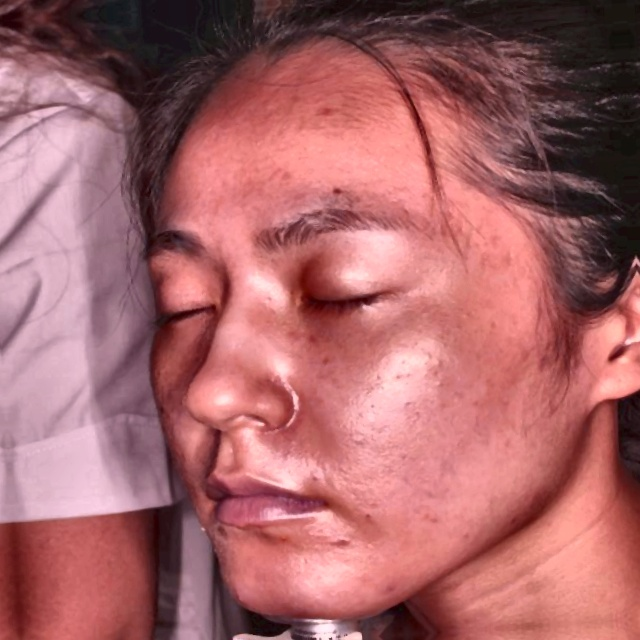comedone: (381, 573, 400, 599), (335, 532, 354, 551)
